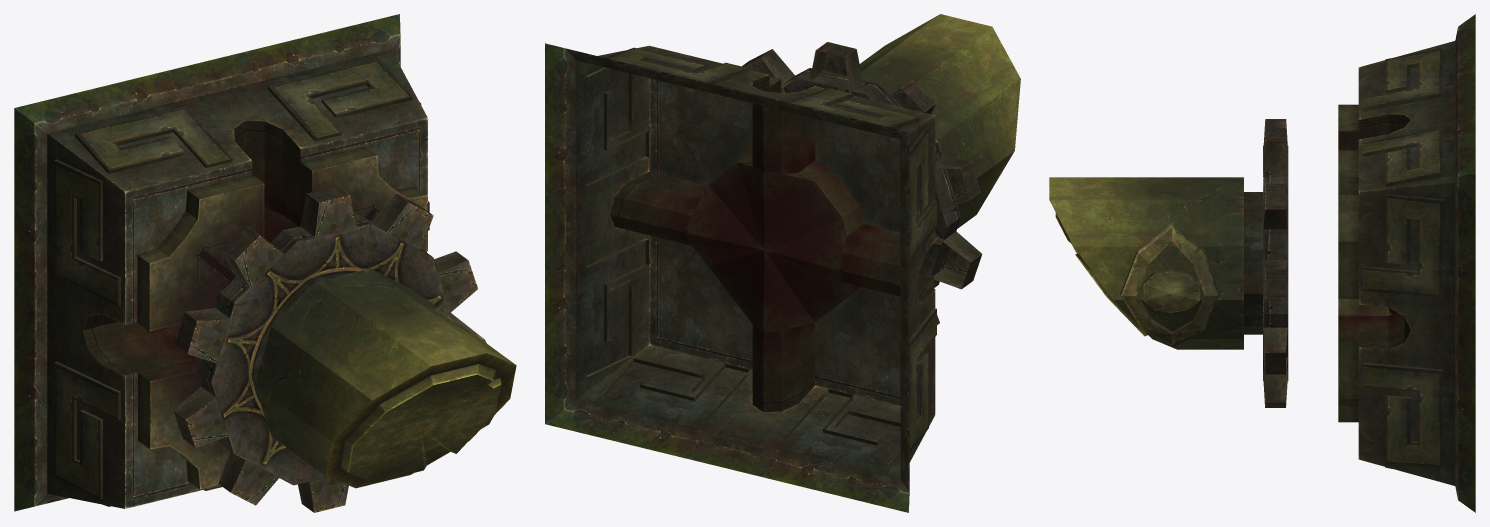
File: beiou_yewai_328_zhuangzhi_02_a.obj
The picture shows the model from 3 angles, left to right: view 1: azimuth 30°, elevation 25°; view 2: azimuth 150°, elevation 25°; view 3: azimuth 270°, elevation 25°; orthographic projection. The views are drawn at different scales.
Visible parts, largest first — view 1: beiou_yewai_328_zhuangzhi_02_a; view 2: beiou_yewai_328_zhuangzhi_02_a; view 3: beiou_yewai_328_zhuangzhi_02_a.
Boxes of the visible parts, left/top/right/bottom form: beiou_yewai_328_zhuangzhi_02_a: left=14, top=14, right=516, bottom=512; beiou_yewai_328_zhuangzhi_02_a: left=545, top=14, right=1020, bottom=512; beiou_yewai_328_zhuangzhi_02_a: left=1049, top=14, right=1475, bottom=512.
Bounding box in the file's own units: 369 × 369 × 419.
Materials: 8 (8 with a texture image).
